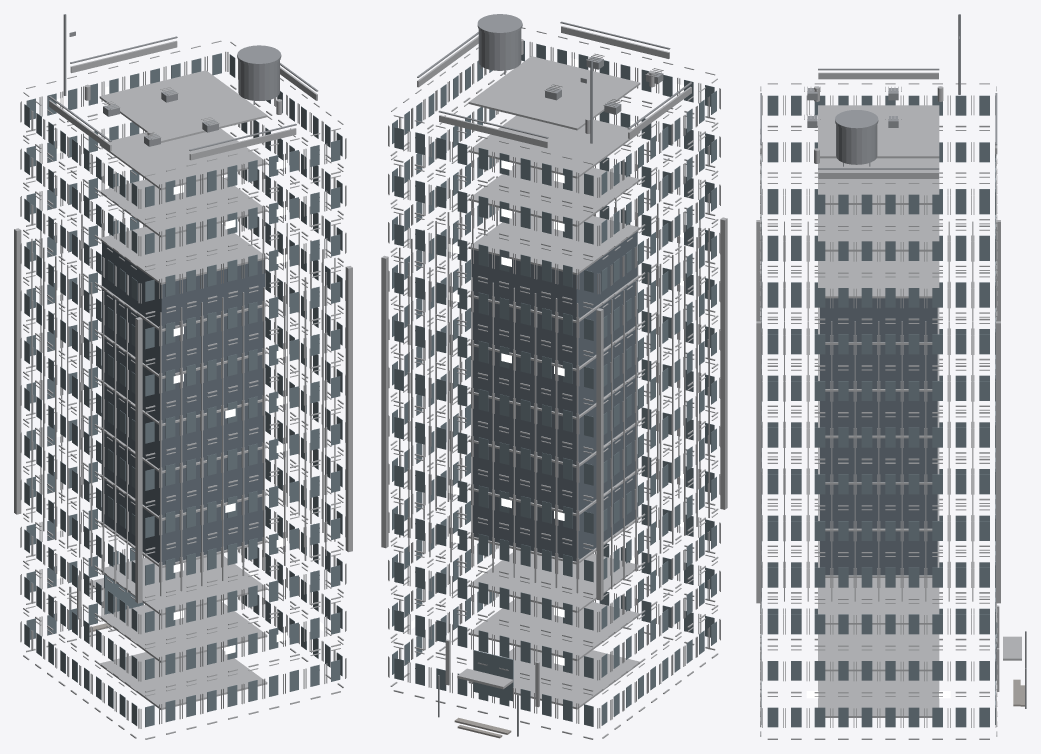
Rendered from tower-glass.glb.
3 views of the same model, side by side, from view 1: azimuth 30°, elevation 25°; view 2: azimuth 150°, elevation 25°; view 3: azimuth 270°, elevation 25° (orthographic). The views are drawn at different scales.
Parts seen in each view (by area): view 1: Building, WinGlow; view 2: Building, WinGlow; view 3: Building.
Part boxes in pixels (x1,y1,x2,y2): Building: (14, 14, 352, 739); WinGlow: (56, 86, 323, 654); Building: (381, 14, 727, 739); WinGlow: (411, 58, 683, 665); Building: (756, 14, 1026, 739).
Bounding box in the file's own units: 16.65 × 48.4 × 18.38.
